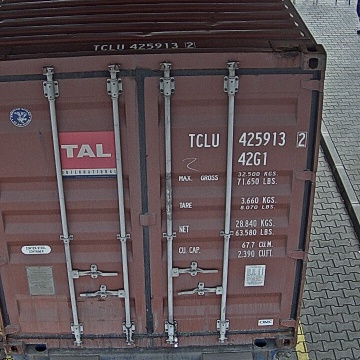serial_id: (188, 131, 305, 148)
